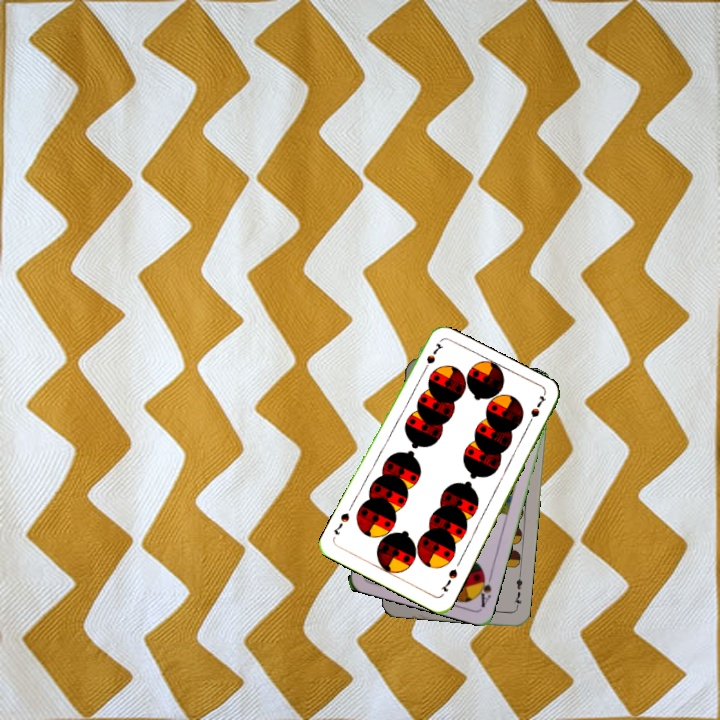E7: (510, 571, 525, 612)
S7: (418, 339, 445, 376), (436, 565, 460, 594)
SA: (472, 568, 495, 610)
